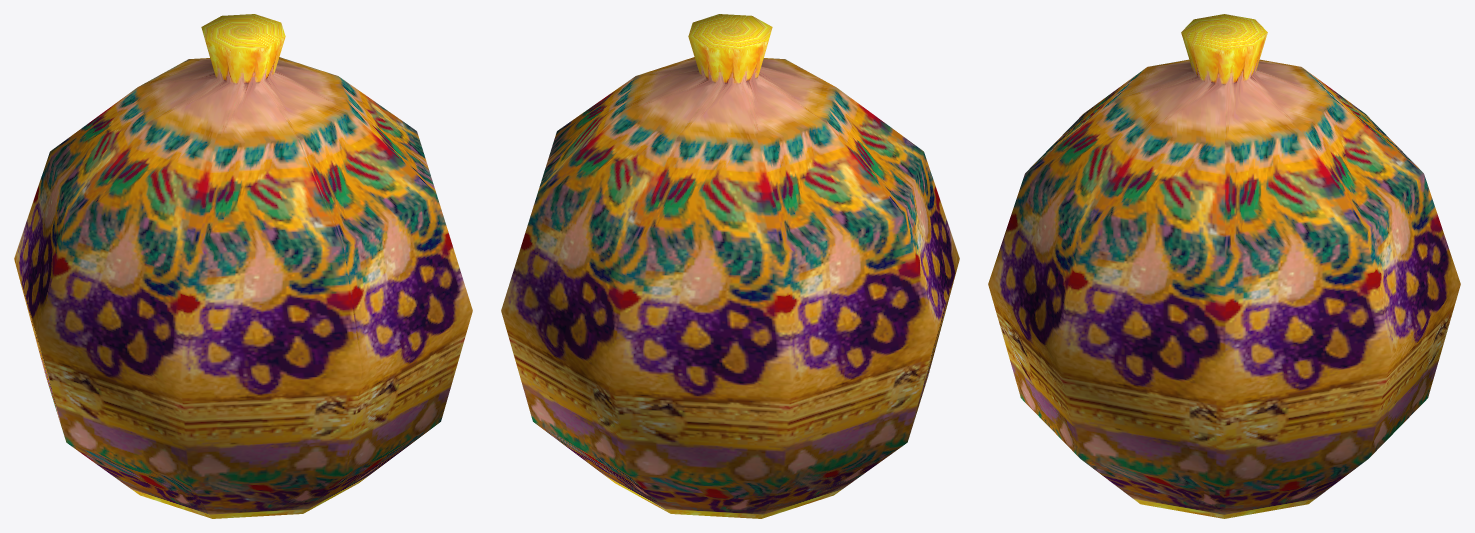
The model's file is it_ball01.fbx.
The picture shows the model from 3 angles, left to right: view 1: azimuth 30°, elevation 25°; view 2: azimuth 150°, elevation 25°; view 3: azimuth 270°, elevation 25°; orthographic projection.
Visible parts, largest first — view 1: mesh_0; view 2: mesh_0; view 3: mesh_0.
Boxes of the visible parts, x1=… form: mesh_0: x1=14, y1=14, x2=472, y2=518; mesh_0: x1=501, y1=14, x2=959, y2=518; mesh_0: x1=988, y1=14, x2=1460, y2=518.
Bounding box in the file's own units: 23.64 × 24.14 × 23.64.
Materials: 1 (1 with a texture image).
